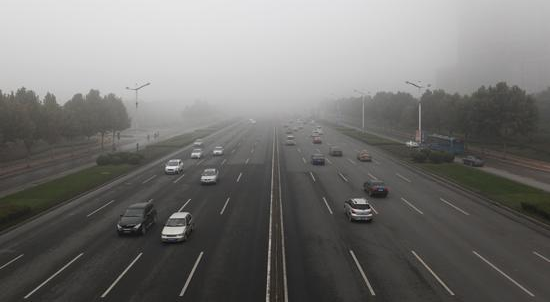bus: (427, 133, 466, 155)
car: (117, 202, 157, 236), (161, 212, 194, 244), (343, 197, 372, 222), (363, 180, 389, 198), (200, 168, 220, 186), (165, 159, 184, 175), (462, 155, 484, 167), (357, 148, 373, 162), (310, 153, 326, 166), (328, 145, 344, 157), (190, 148, 204, 159), (405, 140, 420, 150), (285, 135, 297, 146), (213, 145, 224, 156), (192, 138, 204, 146), (312, 136, 322, 144), (247, 118, 256, 126)
